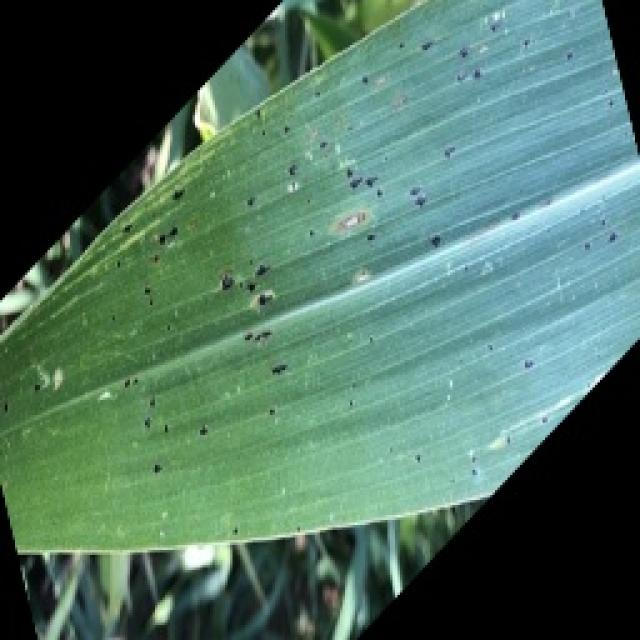Tar_Spot: (0, 0, 638, 558), (124, 166, 314, 392), (331, 86, 458, 248)
